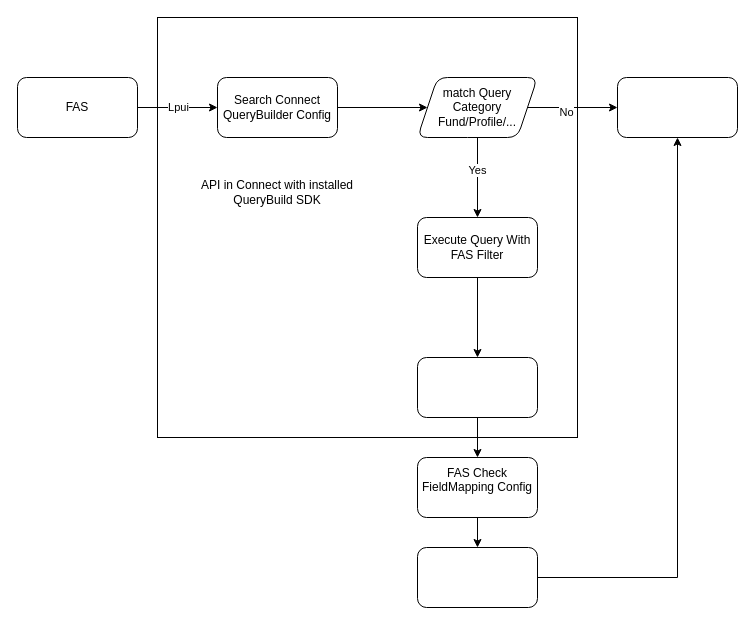
The diagram is 755 pixels wide and 625 high, and some of its shapes have lost their labels. Here are the shapes that lost their labels. From the top down, the box of each, then its label:
(616, 76, 738, 138): End
(416, 356, 538, 418): Return results （with field info）to FAS
(416, 546, 538, 608): sync data with converted field
